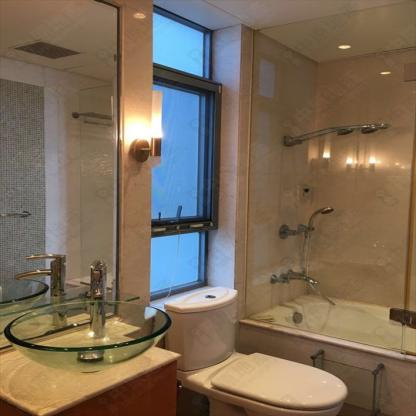Bathtub: (239, 292, 415, 414)
Faucet: (12, 249, 110, 296)
Toilet: (166, 286, 349, 413)
Toilet Sink: (6, 300, 168, 372)
Water Cubicle: (244, 1, 415, 357)
